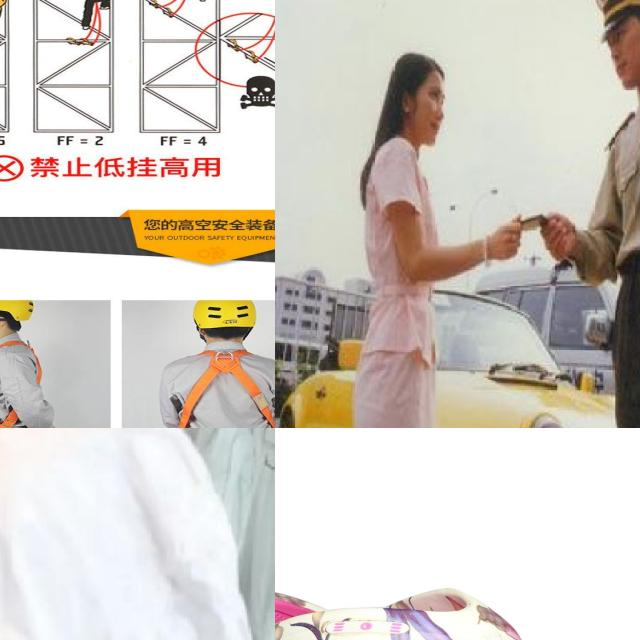Harness: (166, 348, 275, 428)
Sandals: (275, 584, 640, 640)
face_nomask: (409, 70, 445, 140), (609, 16, 640, 90)
hand_noglove: (538, 206, 572, 264), (485, 212, 523, 260)
head_nohelmet: (385, 47, 452, 89), (587, 0, 640, 29)
person: (337, 40, 520, 428), (552, 0, 640, 428)
